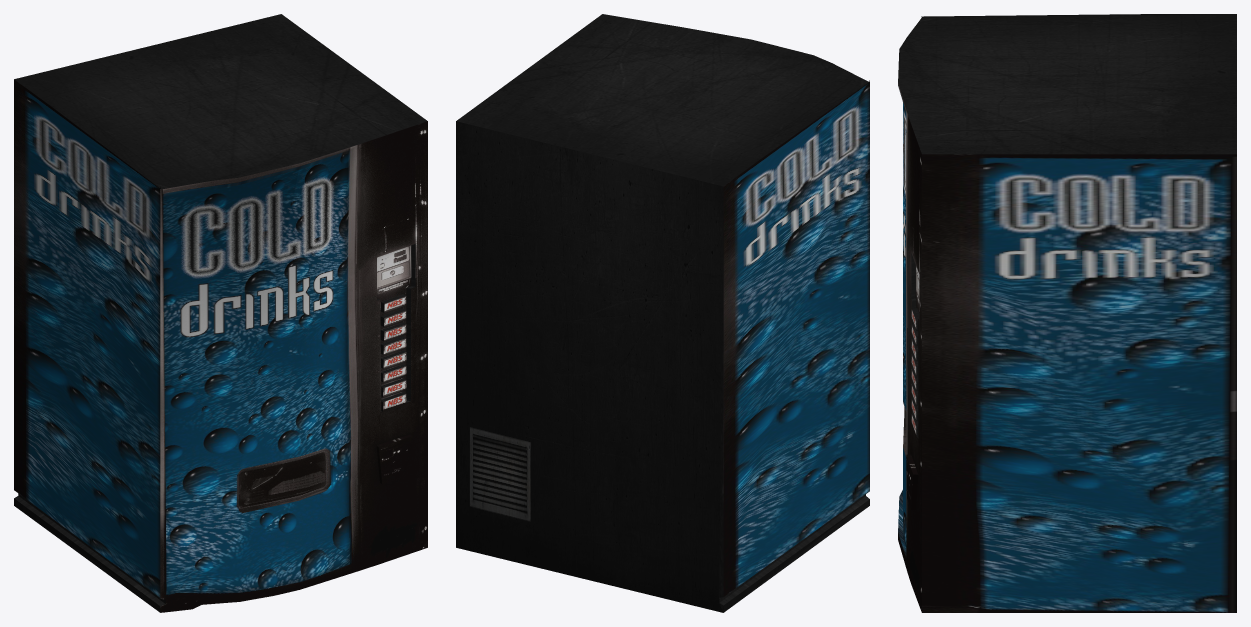
File: prop_colddrinks_vending.obj
The picture shows the model from 3 angles, left to right: view 1: azimuth 30°, elevation 25°; view 2: azimuth 150°, elevation 25°; view 3: azimuth 270°, elevation 25°; orthographic projection. The views are drawn at different scales.
Parts seen in each view (by area): view 1: cube; view 2: cube; view 3: cube.
Boxes of the visible parts, x1,y1,x2,y2 form: cube: [14, 14, 427, 612]; cube: [456, 14, 869, 612]; cube: [898, 14, 1236, 612].
Bounding box in the file's own units: 8.43 × 12.85 × 8.61.
